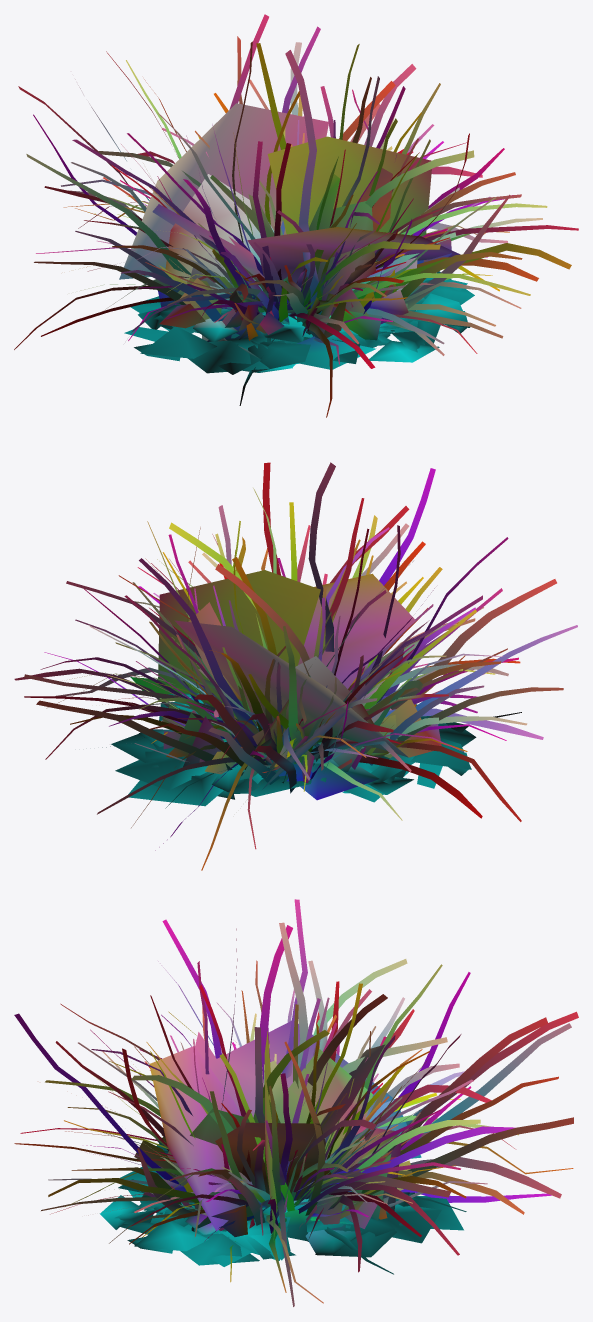
File: Wild_Grass_vczndjqja_Low_vczndjqja_VarE_LOD1.fbx
3 renders of one model, top to bottom at view 1: azimuth 30°, elevation 25°; view 2: azimuth 150°, elevation 25°; view 3: azimuth 270°, elevation 25°, orthographic. The views are drawn at different scales.
Visible parts, largest first — view 1: _m3na_VarE_LOD3; view 2: _m3na_VarE_LOD3; view 3: _m3na_VarE_LOD3.
Boxes of the visible parts, x1=… form: _m3na_VarE_LOD3: x1=14, y1=14, x2=578, y2=417; _m3na_VarE_LOD3: x1=14, y1=462, x2=577, y2=870; _m3na_VarE_LOD3: x1=14, y1=899, x2=578, y2=1306.
Size of the model in its own units: 109 by 59.24 by 109.
